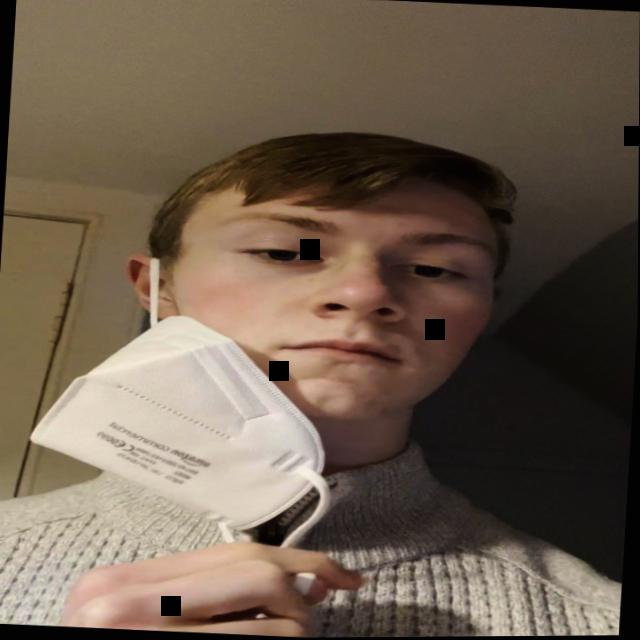NO-Mask: (143, 146, 515, 456)
